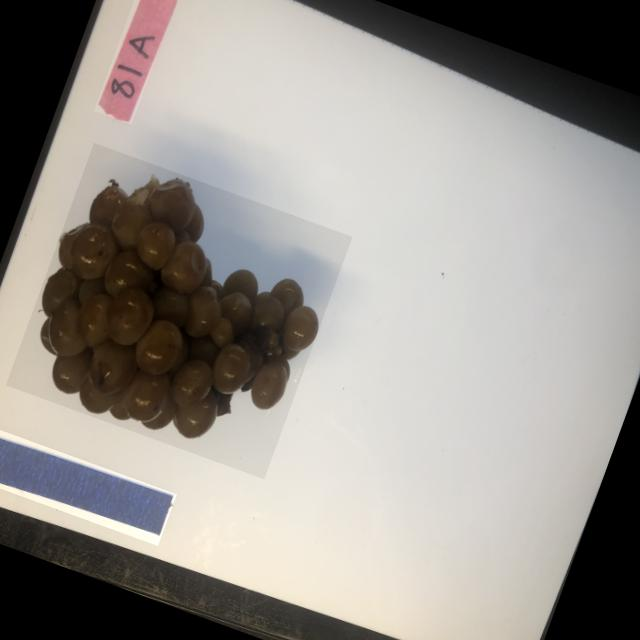grape_cluster: (6, 142, 353, 478)
index: (94, 0, 181, 124)
measure_label: (0, 417, 177, 545)
